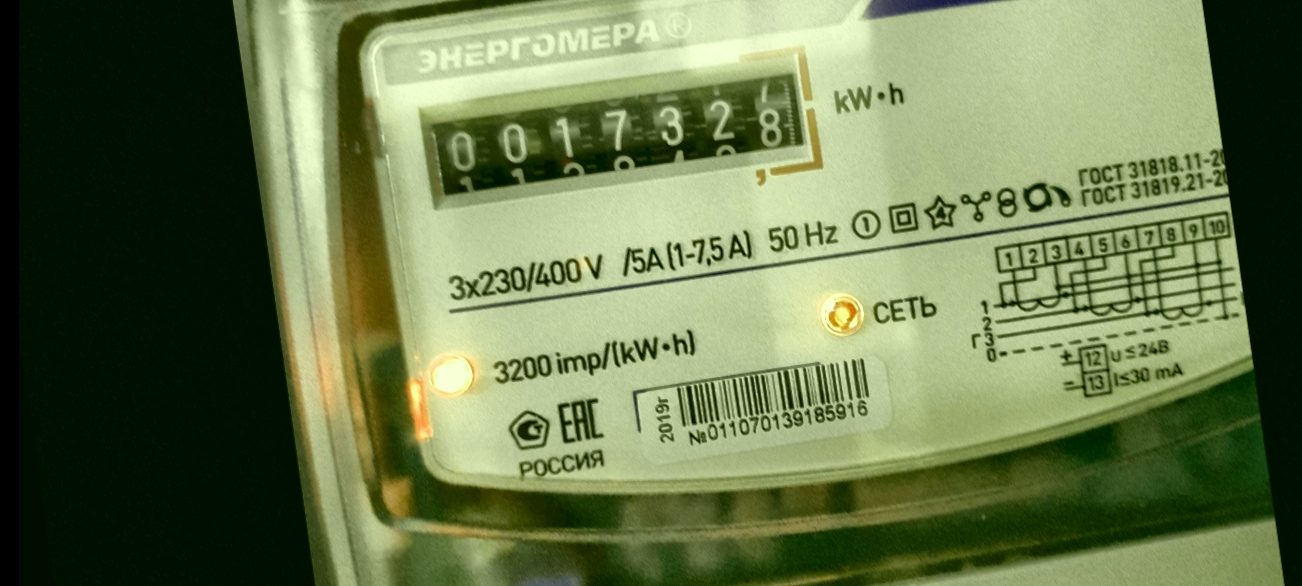0: (443, 129, 481, 177), (496, 119, 531, 168)
1: (550, 114, 578, 162)
2: (702, 97, 737, 145)
3: (654, 103, 686, 150)
7: (600, 107, 633, 157)
8: (753, 106, 784, 151)
screen: (407, 47, 831, 231)
